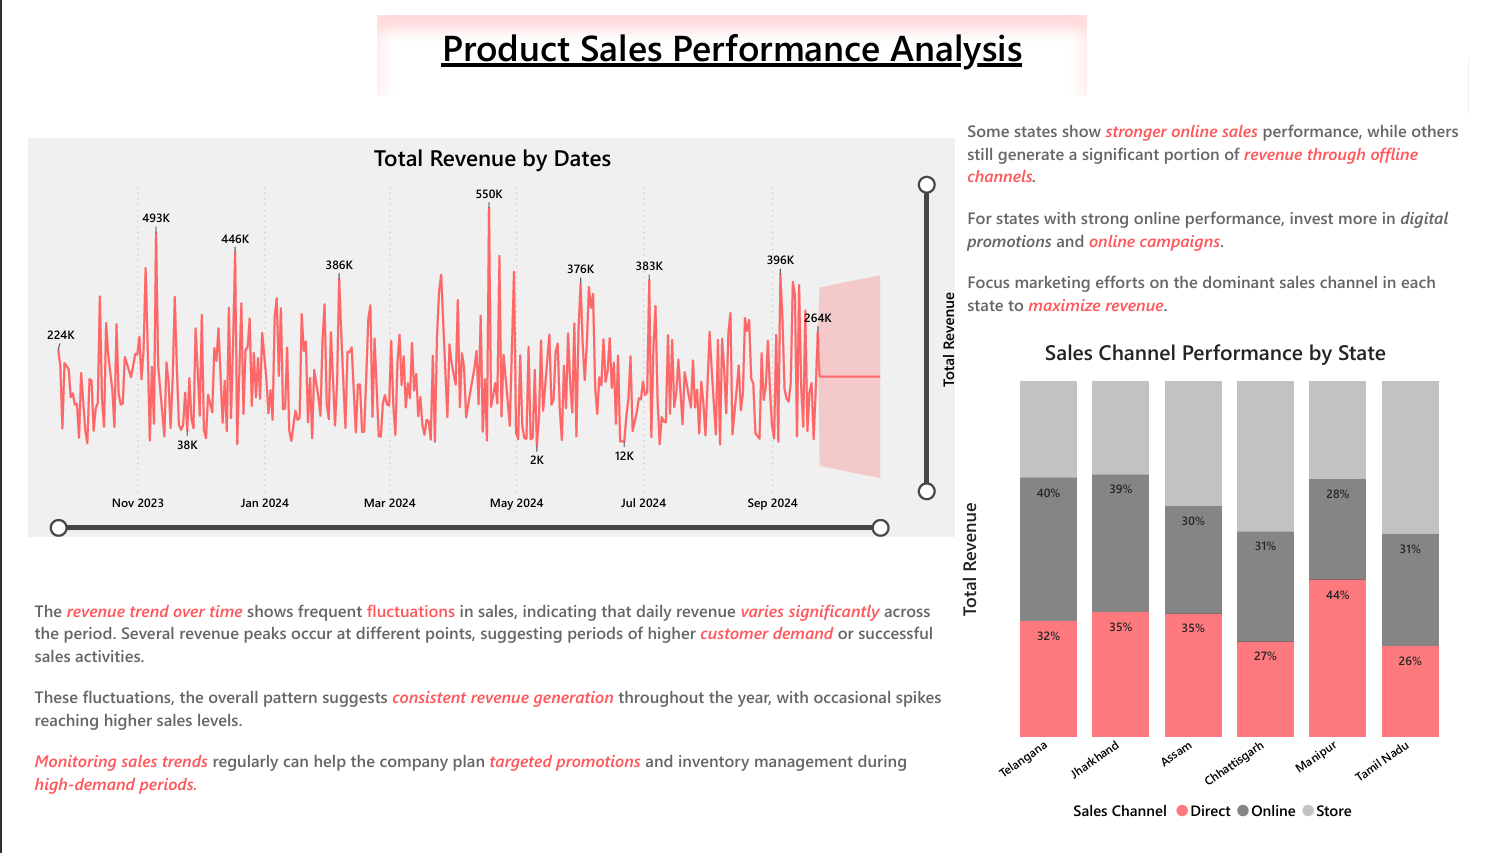

The dashboard page shown, as its layout file describes it:
{"tool":"powerbi","page":{"name":"Customer & Regional Analysis","canvas":[1280,720],"ordinal":2},"visuals":[{"type":"textbox","box":[310,0,630,71.4],"z":0},{"type":"hundredPercentStackedColumnChart","title":"Sales Channel Performance by State","fields":{"Category":["SalesData.State"],"Series":["SalesData.Sales Channel"],"Y":["All Measures.Total Revenue"]},"box":[828.7,286,451.3,434],"z":0,"group":"g1"},{"type":"textbox","box":[829,87,451,199],"z":1000,"group":"g1"},{"type":"lineChart","title":"Total Revenue by Dates","fields":{"Y":["All Measures.Total Revenue"],"Category":["SalesData.Date"]},"box":[0,108.6,824.3,354.3],"z":1000},{"type":"textbox","box":[0,512.9,824.3,207.1],"z":2000},{"type":"group","id":"g1","title":"Group 1","box":[828.7,87,451.3,633],"z":3000}]}

Visuals, with their boxes in screenshot pixels (x1, y1, x2, y2), scaled from the page's 1280x720 canvas onto the 1495x853 screenshot:
textbox: <box>362,0,1098,85</box>
"Sales Channel Performance by State" hundredPercentStackedColumnChart: <box>968,339,1494,852</box>
textbox: <box>968,103,1494,339</box>
"Total Revenue by Dates" lineChart: <box>0,129,963,548</box>
textbox: <box>0,608,963,852</box>
"Group 1" group: <box>968,103,1494,852</box>
